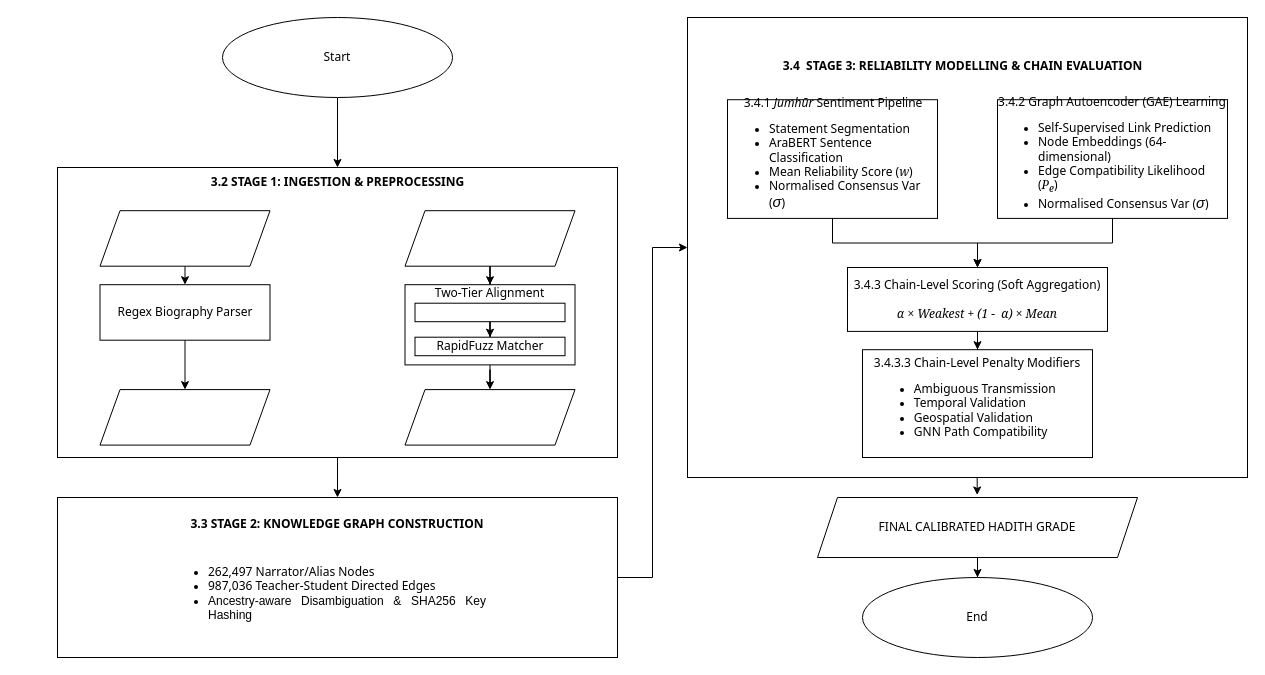
The diagram is 1265 pixels wide and 675 high, and some of its shapes have lost their labels. Each missing label, with the centre of its shape:
"Aligned Sanad Sequences" goes at (489,417).
"Isolated Narrator Blocks" goes at (184,417).
"Raw Biographical Text (Shamela)" goes at (184,238).
"Raw Hadith Transmission Chain" goes at (489,238).
"TF-IDF Retrieval" goes at (489,312).
